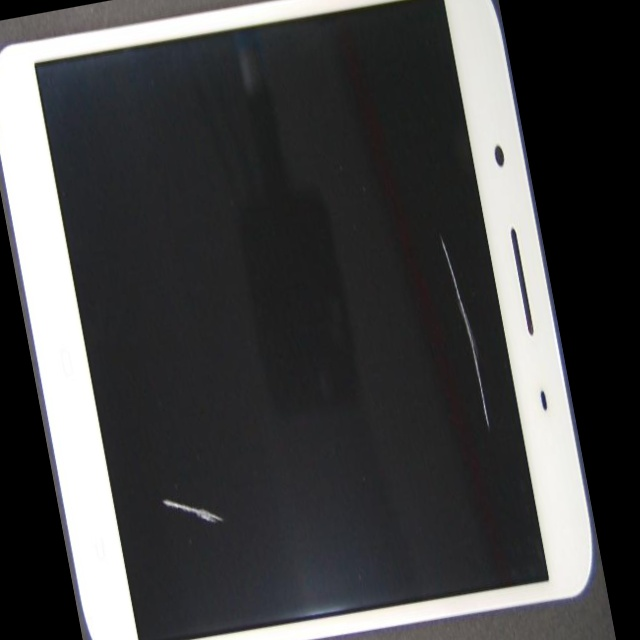scratch: (222, 83, 564, 409), (144, 279, 330, 640)
